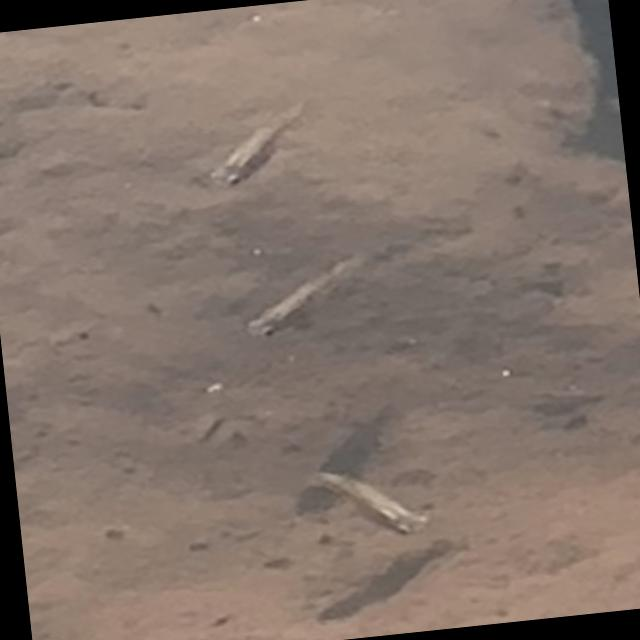Sivrisinek Baligi: (306, 437, 438, 550), (238, 255, 368, 342), (197, 96, 313, 191)
